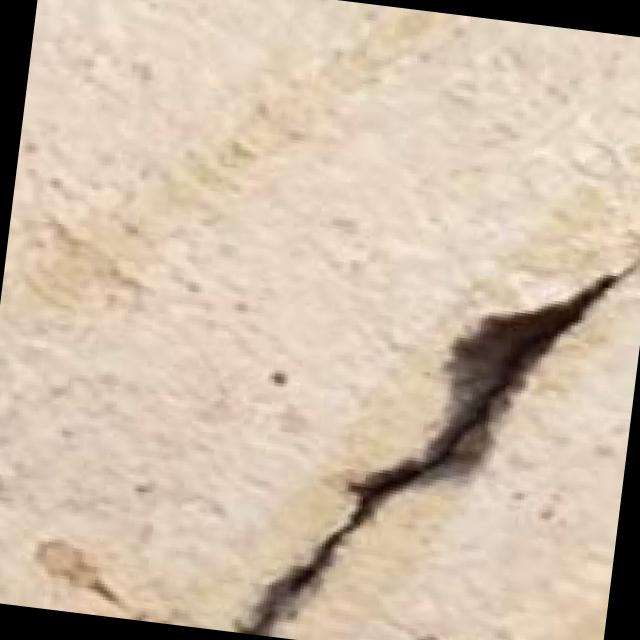crack: (221, 179, 640, 640)
